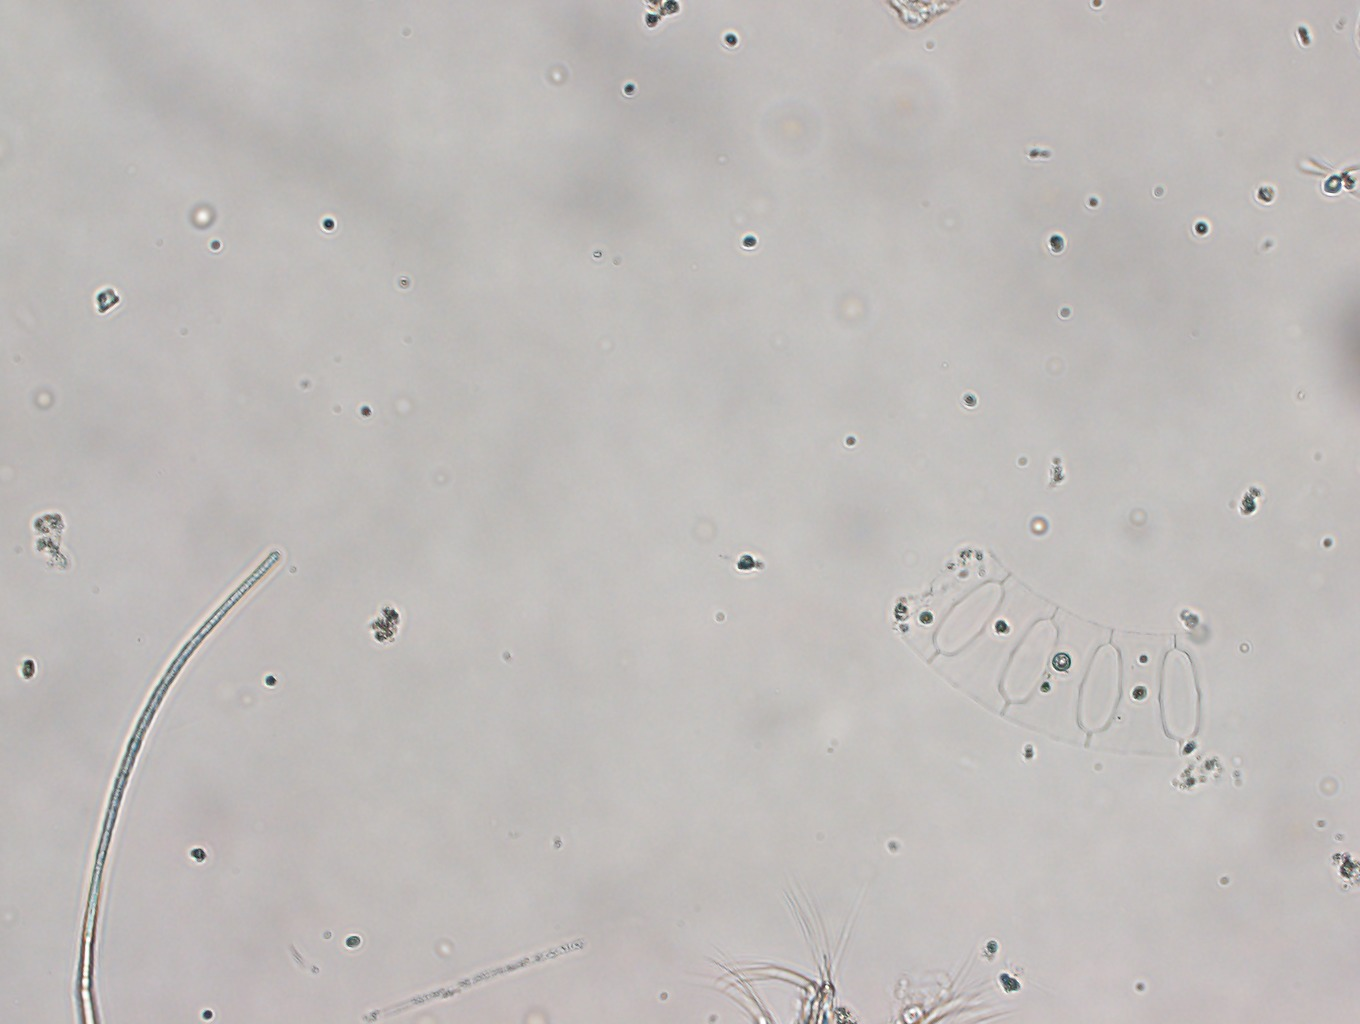eucampia: (874, 512, 1213, 767)
